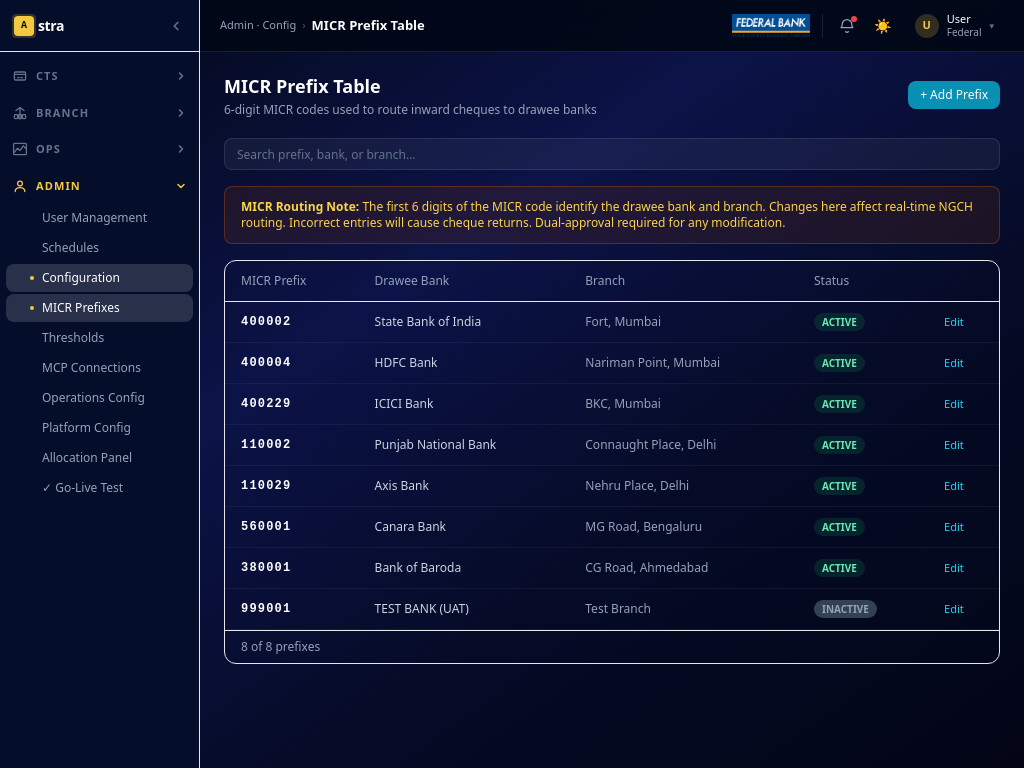
CTSMICRPrefixes › clicking Edit opens edit modal
Click the button "Edit" in the row of "400002" at {"x": 954, "y": 322}, box x1=944 y1=314 x2=964 y2=330
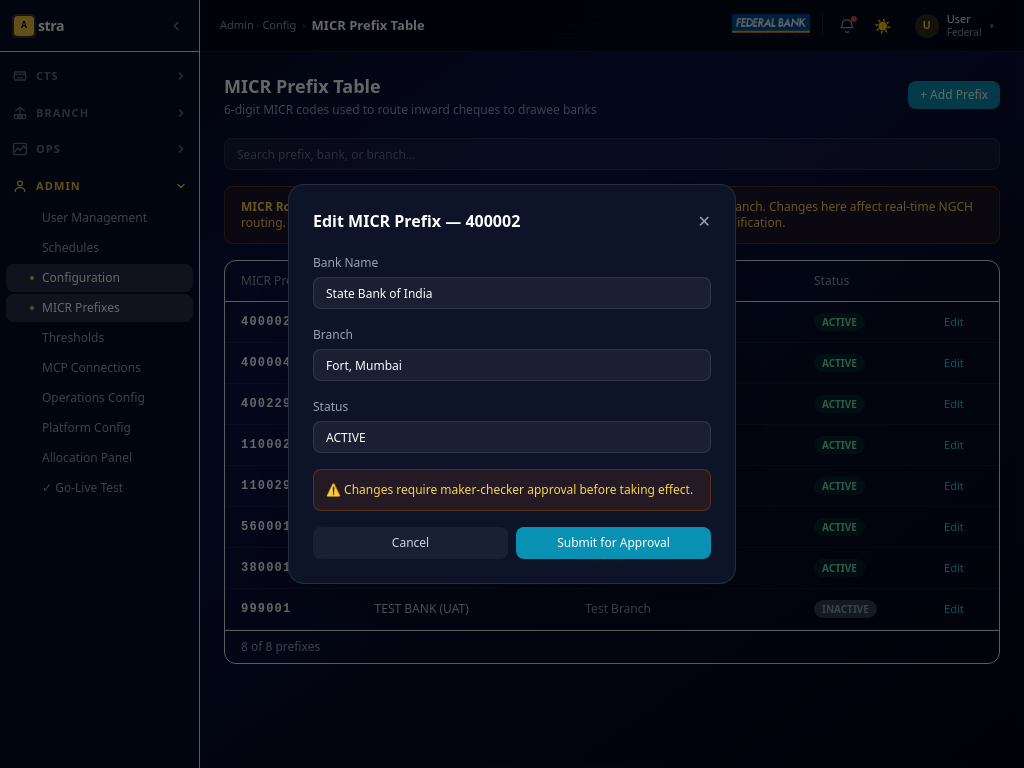
expect the button "Submit for Approval" is shown: met, box x1=516 y1=527 x2=711 y2=559
